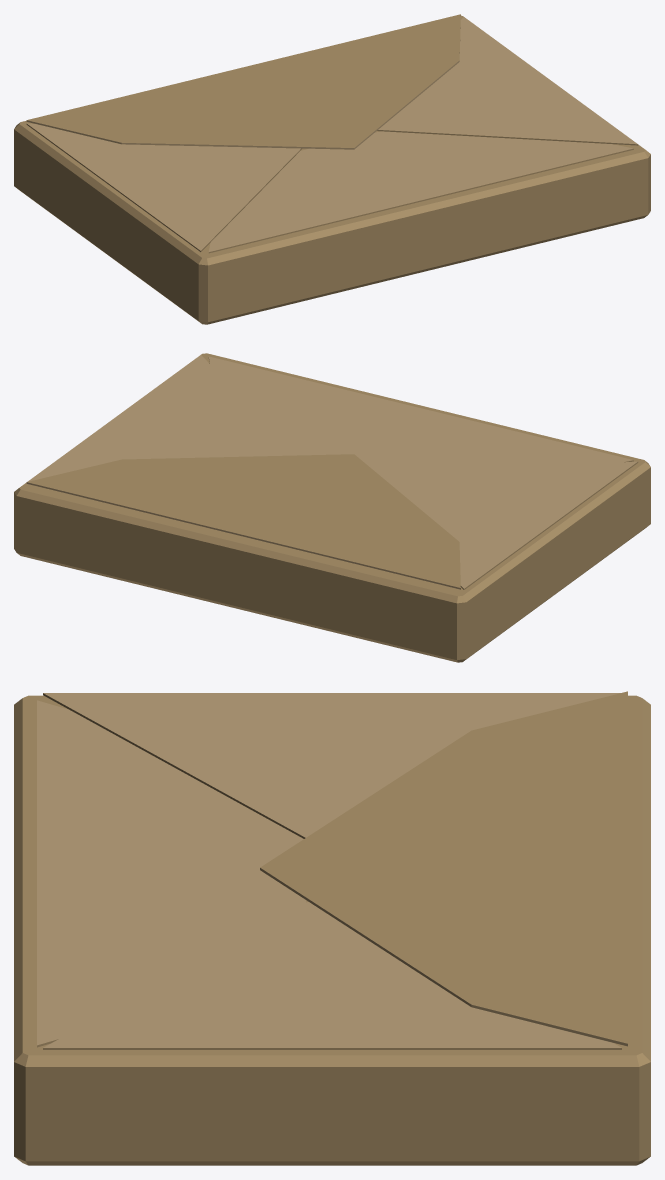
Rendered from Motel_Anonymous_Package.fbx.
3 views of the same model, one above another, from view 1: azimuth 30°, elevation 25°; view 2: azimuth 150°, elevation 25°; view 3: azimuth 270°, elevation 25° (orthographic). The views are drawn at different scales.
Parts seen in each view (by area): view 1: Motel_Anonymous_Package; view 2: Motel_Anonymous_Package; view 3: Motel_Anonymous_Package.
Boxes of the visible parts, bbox=[...] form: Motel_Anonymous_Package: bbox=[14, 14, 650, 324]; Motel_Anonymous_Package: bbox=[14, 353, 650, 662]; Motel_Anonymous_Package: bbox=[14, 691, 650, 1165].
Bounding box in the file's own units: 0.3 × 0.045 × 0.22.
